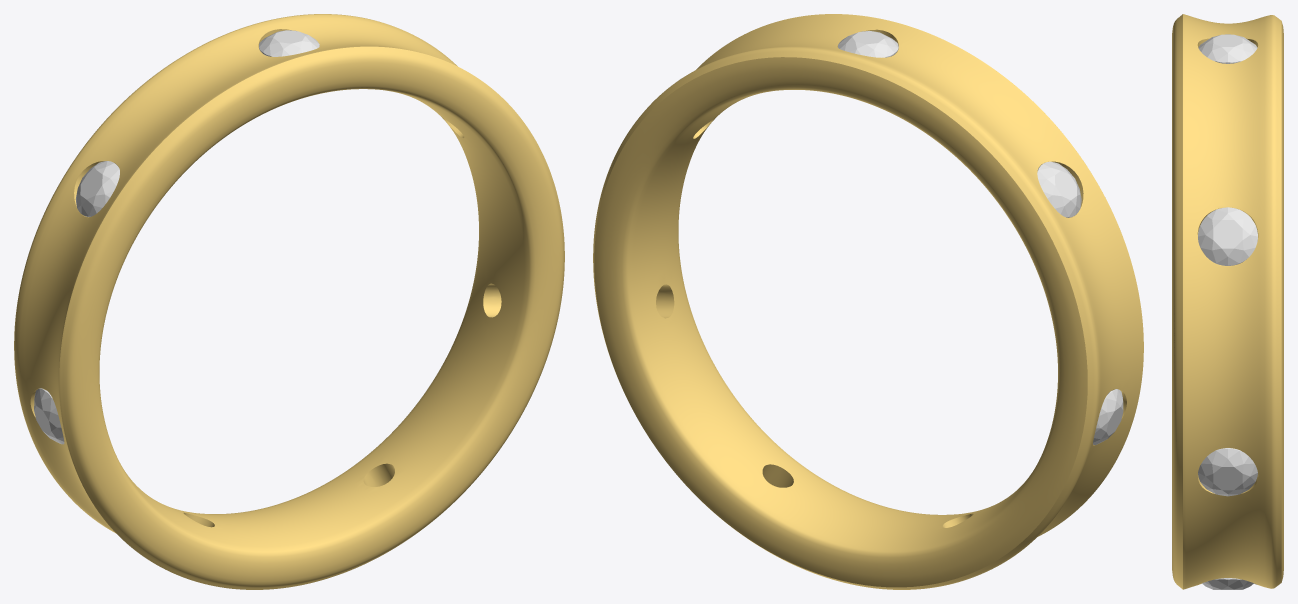
The model's file is BrynneYGwb_blender.glb.
3 renders of one model, left to right at view 1: azimuth 30°, elevation 25°; view 2: azimuth 150°, elevation 25°; view 3: azimuth 270°, elevation 25°, orthographic.
Visible parts, largest first — view 1: Brynne YG for 3d model, Brynne dia for 3d model, Brynne dia for 3d model.006, Brynne dia for 3d model.001; view 2: Brynne YG for 3d model, Brynne dia for 3d model, Brynne dia for 3d model.006, Brynne dia for 3d model.001; view 3: Brynne YG for 3d model, Brynne dia for 3d model.005, Brynne dia for 3d model.004, Brynne dia for 3d model.006, Brynne dia for 3d model.003.
Boxes of the visible parts, x1=… form: Brynne YG for 3d model: x1=14, y1=14, x2=564, y2=589; Brynne dia for 3d model: x1=75, y1=161, x2=119, y2=216; Brynne dia for 3d model.006: x1=259, y1=30, x2=319, y2=56; Brynne dia for 3d model.001: x1=34, y1=388, x2=64, y2=444; Brynne YG for 3d model: x1=593, y1=14, x2=1143, y2=589; Brynne dia for 3d model: x1=1037, y1=161, x2=1081, y2=217; Brynne dia for 3d model.006: x1=838, y1=31, x2=898, y2=57; Brynne dia for 3d model.001: x1=1093, y1=389, x2=1123, y2=445; Brynne YG for 3d model: x1=1172, y1=14, x2=1283, y2=589; Brynne dia for 3d model.005: x1=1198, y1=207, x2=1257, y2=265; Brynne dia for 3d model.004: x1=1198, y1=448, x2=1257, y2=496; Brynne dia for 3d model.006: x1=1198, y1=34, x2=1257, y2=63; Brynne dia for 3d model.003: x1=1202, y1=578, x2=1253, y2=589.
Size of the model in its own units: 21.1 by 21.11 by 4.1.
